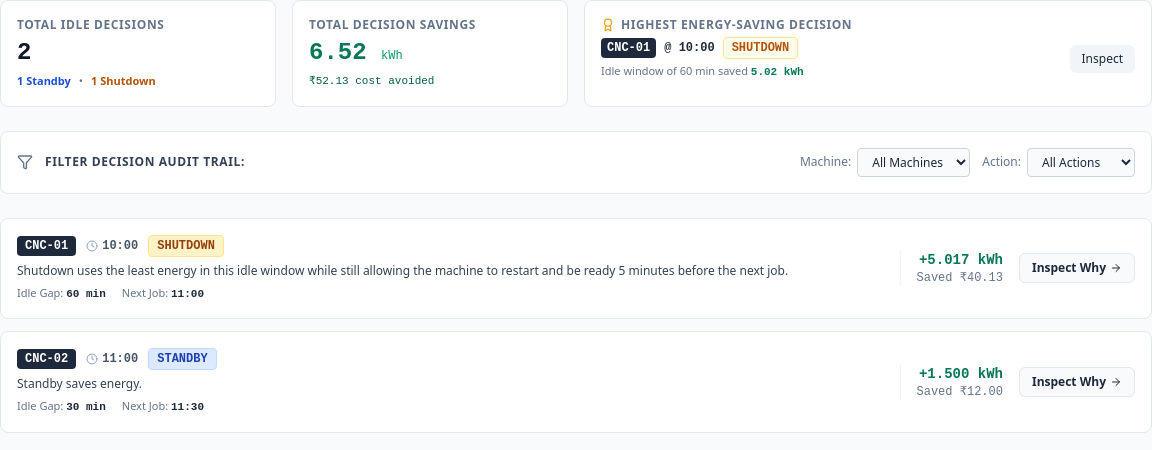
Scenario: Prompt 5: Decision Explorer & Drawer › filters decisions and calculates highest-saving decision in DecisionExplorer
Expected: the text "2" is shown, [17,39,31,66]
Expected: the text "1 Standby" is shown, [17,73,71,90]
// Filter by machine CNC-02
Select "CNC-02" in the dropdown next to "Machine:" at (914,162), box [857,148,970,176]
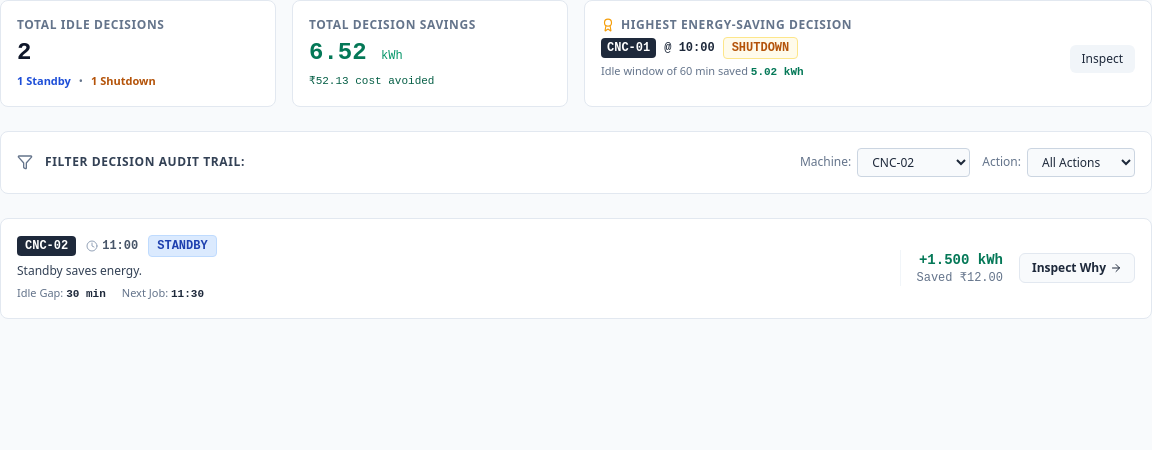
Expected: the text "Standby saves energy." is shown, [17,262,142,278]
Now the text "Shutdown uses the least energy in this idle window while still allowing the machine to restart and be ready 5 minutes be" is gone
